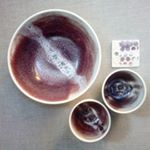cups: (6, 8, 104, 106), (100, 68, 149, 115), (67, 99, 112, 145)
